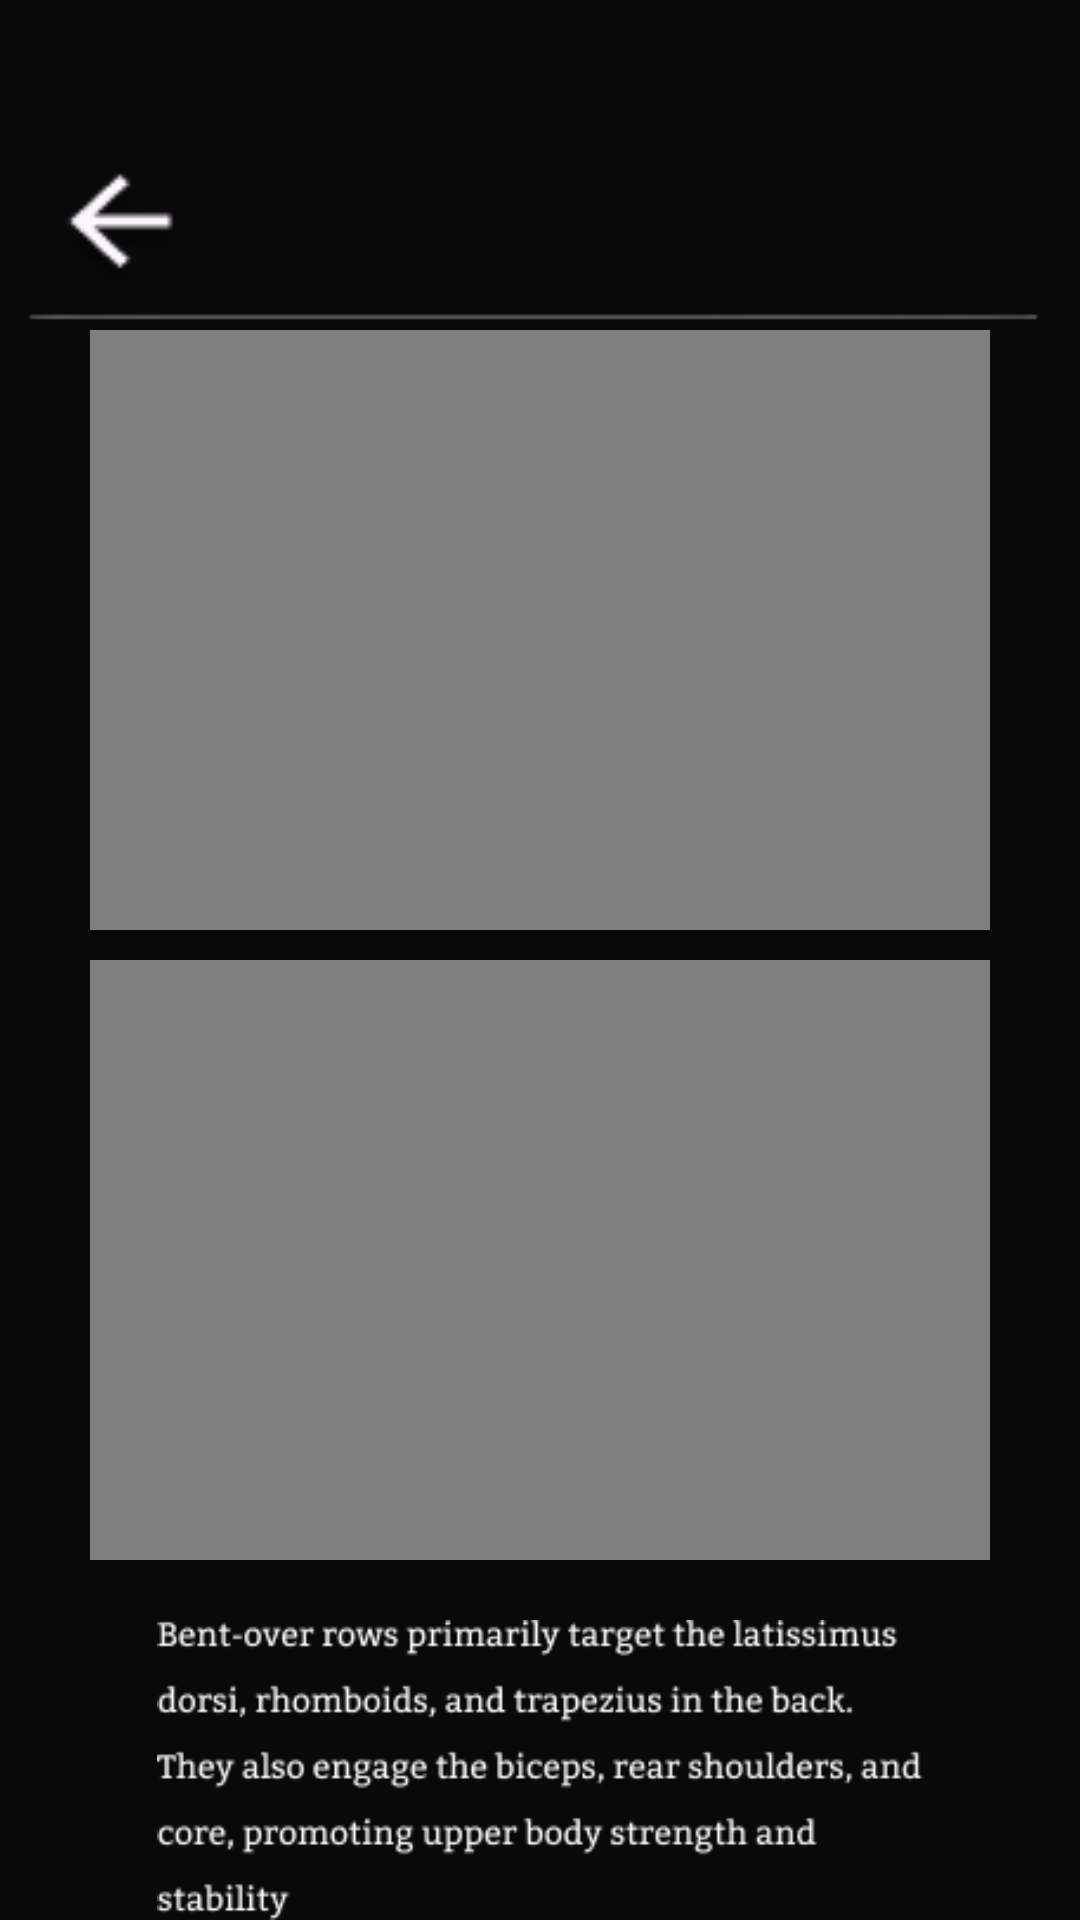

Point at icon controls on the screen. Image size 1080x1920, points as (x,y).
whiteback: (121,221)
